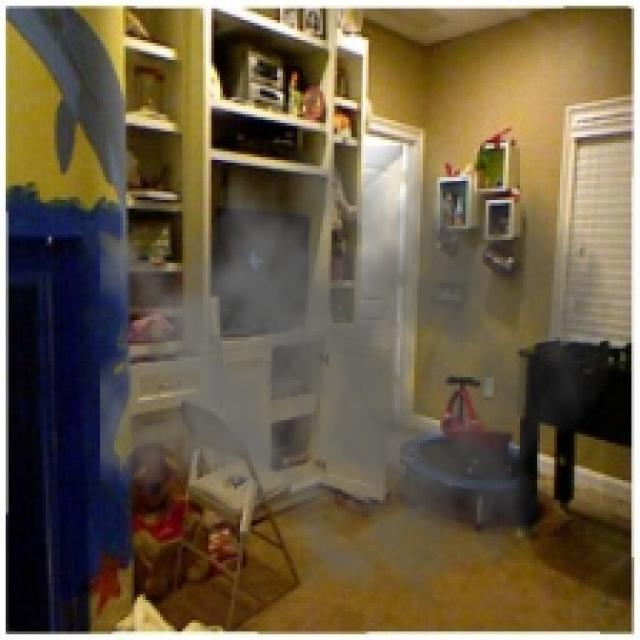smoke: (100, 89, 614, 617)
